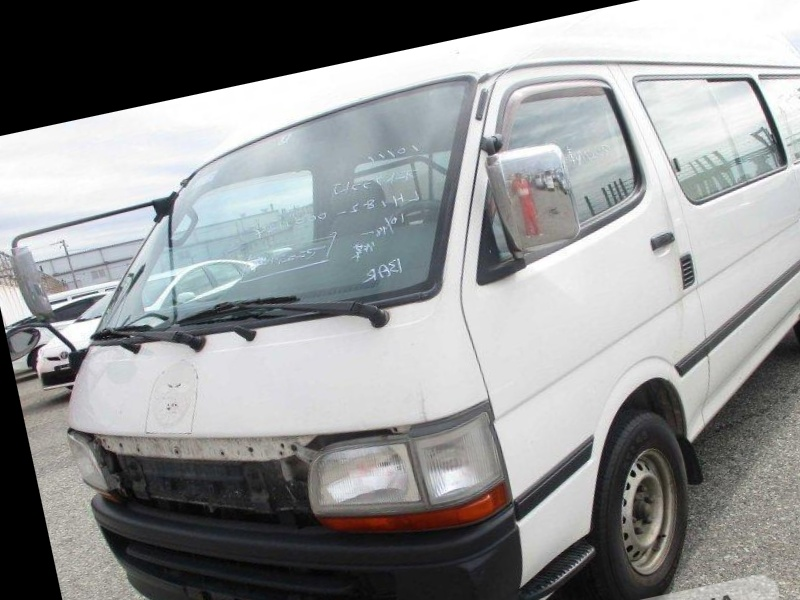van: (15, 0, 800, 600)
